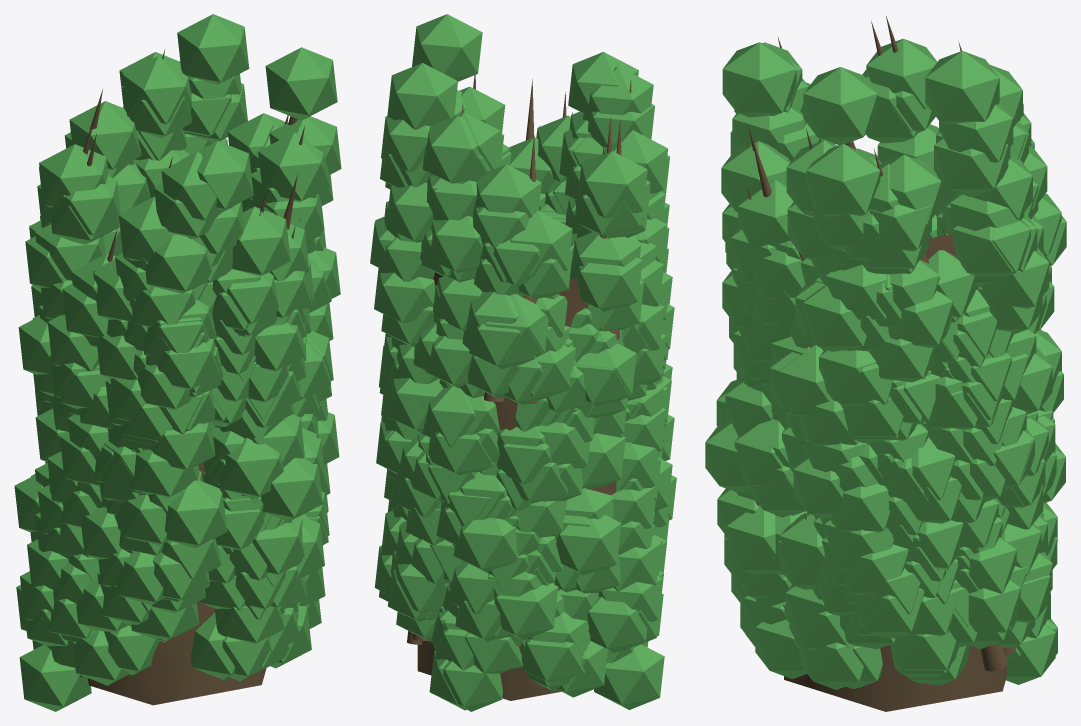
Rendered from tree_var_7671.glb.
3 renders of one model, left to right at view 1: azimuth 30°, elevation 25°; view 2: azimuth 150°, elevation 25°; view 3: azimuth 270°, elevation 25°, orthographic. The views are drawn at different scales.
Parts seen in each view (by area): view 1: tree_var_7671; view 2: tree_var_7671; view 3: tree_var_7671.
Part boxes in pixels (x1,y1,x2,y2): tree_var_7671: (14, 14, 341, 711); tree_var_7671: (370, 14, 676, 711); tree_var_7671: (705, 16, 1066, 711).
Size of the model in its own units: 2.77 by 5.92 by 2.84.
